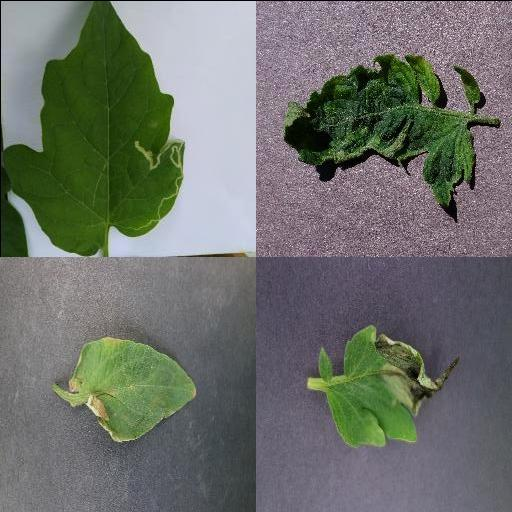Late Blight: (311, 323, 465, 449), (67, 335, 201, 443)
Leaf Miner: (0, 0, 187, 256)
Mosaic Virus: (283, 52, 475, 210)
